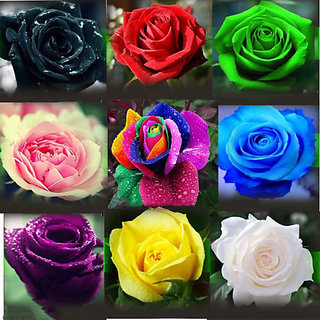rose: (9, 11, 103, 89), (114, 7, 205, 83), (216, 10, 312, 81), (220, 222, 305, 297), (15, 220, 97, 296), (118, 217, 196, 293), (227, 110, 301, 187)
